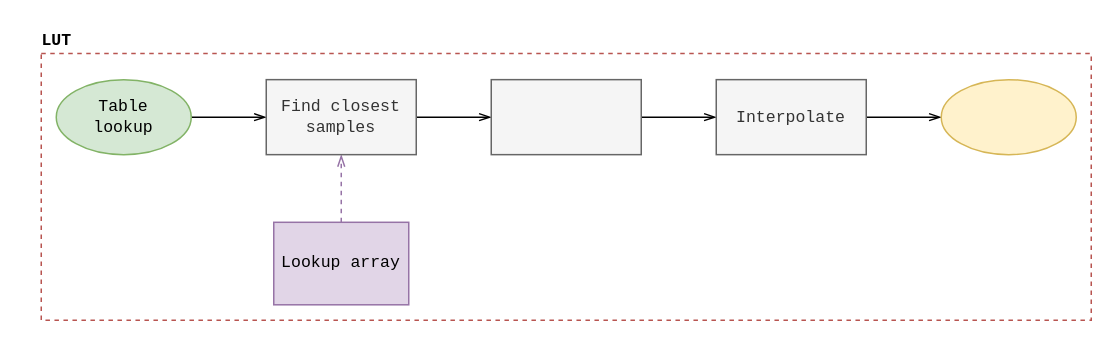
Some shapes in this 1118 by 347 pixel diagram are drawn without their labels. Each missing label, with the centre of its shape:
"Calculate interpolation parameters" goes at point 565,116.
"Sample (mono)" goes at point 1008,116.
